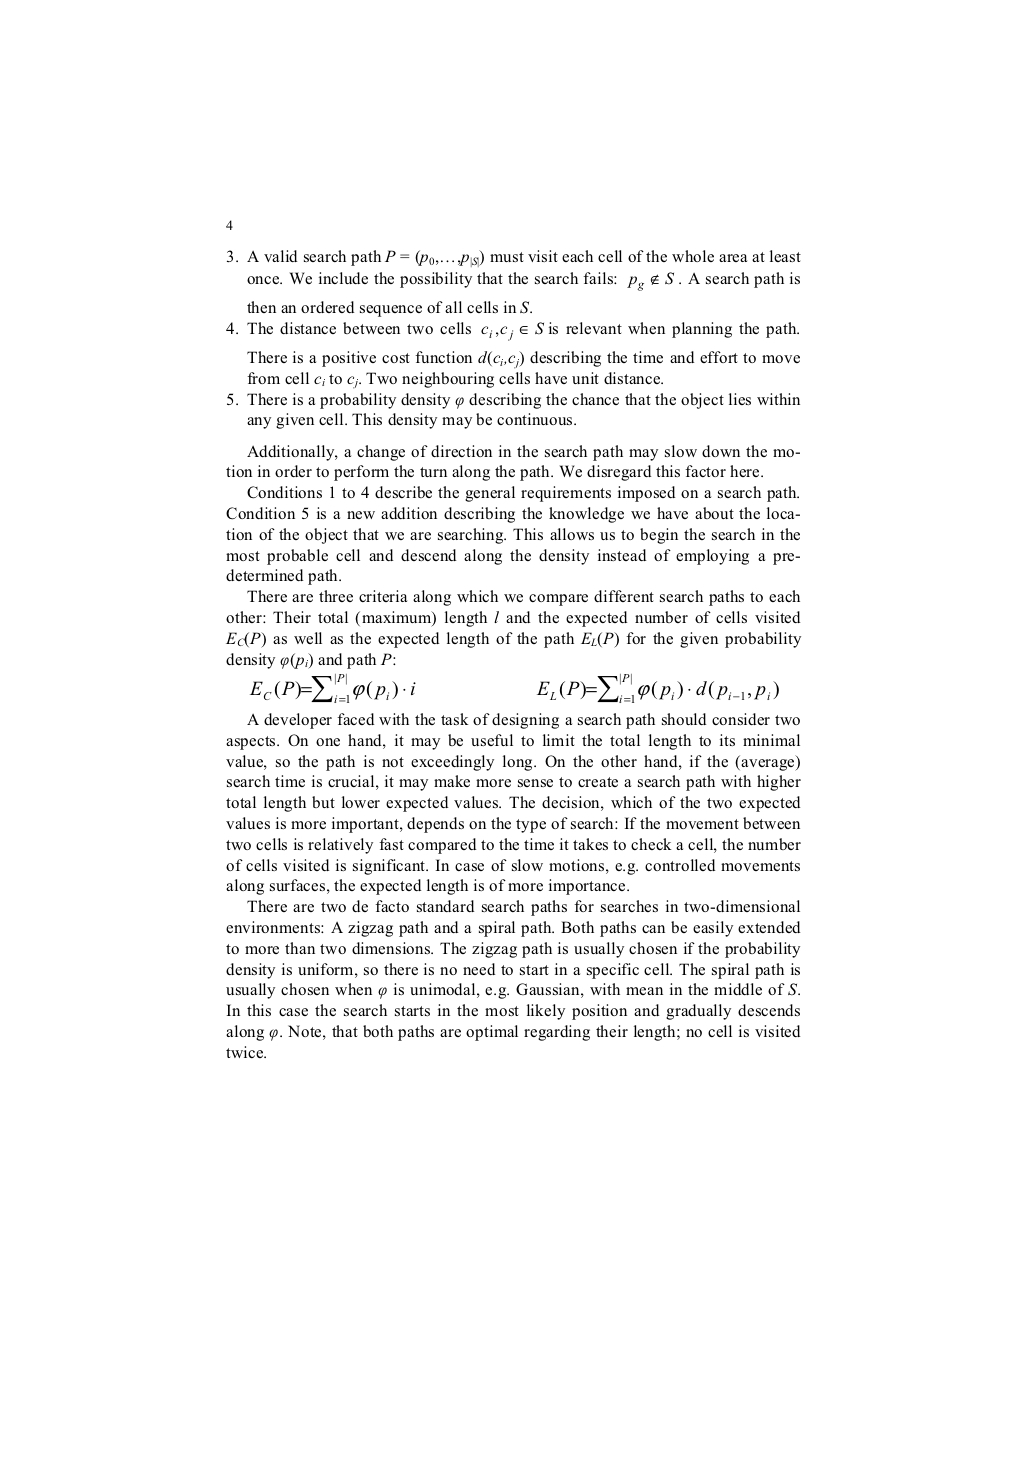formula: (249, 671, 778, 703)
